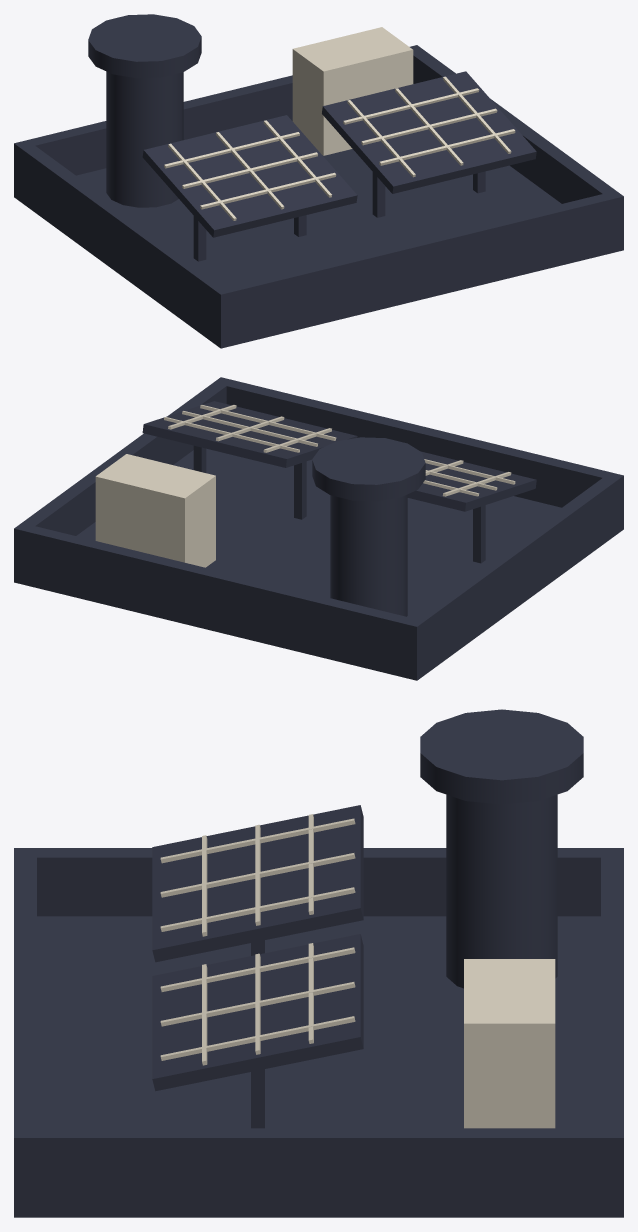
The model's file is roof_productive_works.glb.
3 renders of one model, top to bottom at view 1: azimuth 30°, elevation 25°; view 2: azimuth 150°, elevation 25°; view 3: azimuth 270°, elevation 25°, orthographic. The views are drawn at different scales.
Visible parts, largest first — view 1: roof_productive_works ink, roof_productive_works solar, roof_productive_works mist, roof_productive_works steel; view 2: roof_productive_works ink, roof_productive_works mist, roof_productive_works steel, roof_productive_works solar; view 3: roof_productive_works ink, roof_productive_works solar, roof_productive_works mist, roof_productive_works steel.
Boxes of the visible parts, x1,y1,x2,y2 form: roof_productive_works ink: [14, 14, 623, 348]; roof_productive_works solar: [142, 71, 536, 237]; roof_productive_works mist: [164, 27, 515, 220]; roof_productive_works steel: [106, 71, 485, 261]; roof_productive_works ink: [14, 377, 623, 680]; roof_productive_works mist: [95, 405, 515, 567]; roof_productive_works steel: [193, 445, 485, 616]; roof_productive_works solar: [142, 401, 536, 511]; roof_productive_works ink: [14, 709, 623, 1217]; roof_productive_works solar: [152, 805, 363, 1091]; roof_productive_works mist: [160, 814, 555, 1128]; roof_productive_works steel: [251, 794, 557, 1128].
Bounding box in the file's own units: 0.9 × 0.3575 × 0.8.
